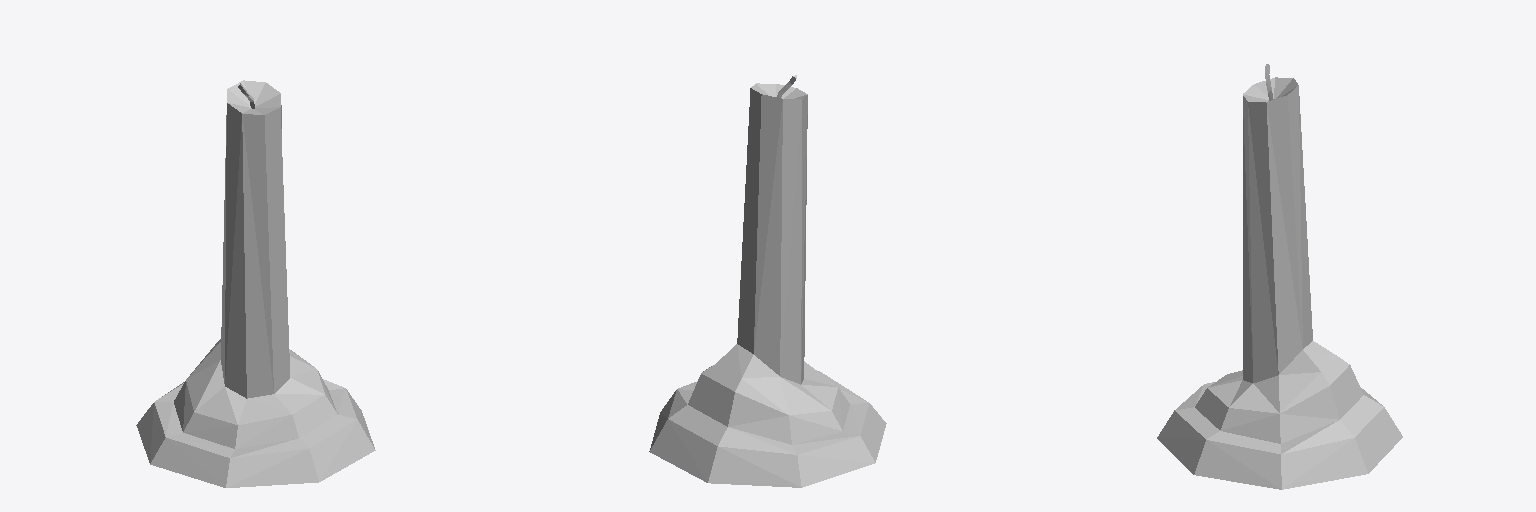
The model's file is candleSmall.obj.
The picture shows the model from 3 angles: view 1: azimuth 30°, elevation 25°; view 2: azimuth 150°, elevation 25°; view 3: azimuth 270°, elevation 25°; orthographic projection.
Visible parts, largest first — view 1: Mesh; view 2: Mesh; view 3: Mesh.
Part boxes in pixels (x1,y1,x2,y2): Mesh: (136,80,375,487); Mesh: (649,75,886,487); Mesh: (1157,64,1402,489).
Size of the model in its own units: 0.1691 by 0.2749 by 0.1691.